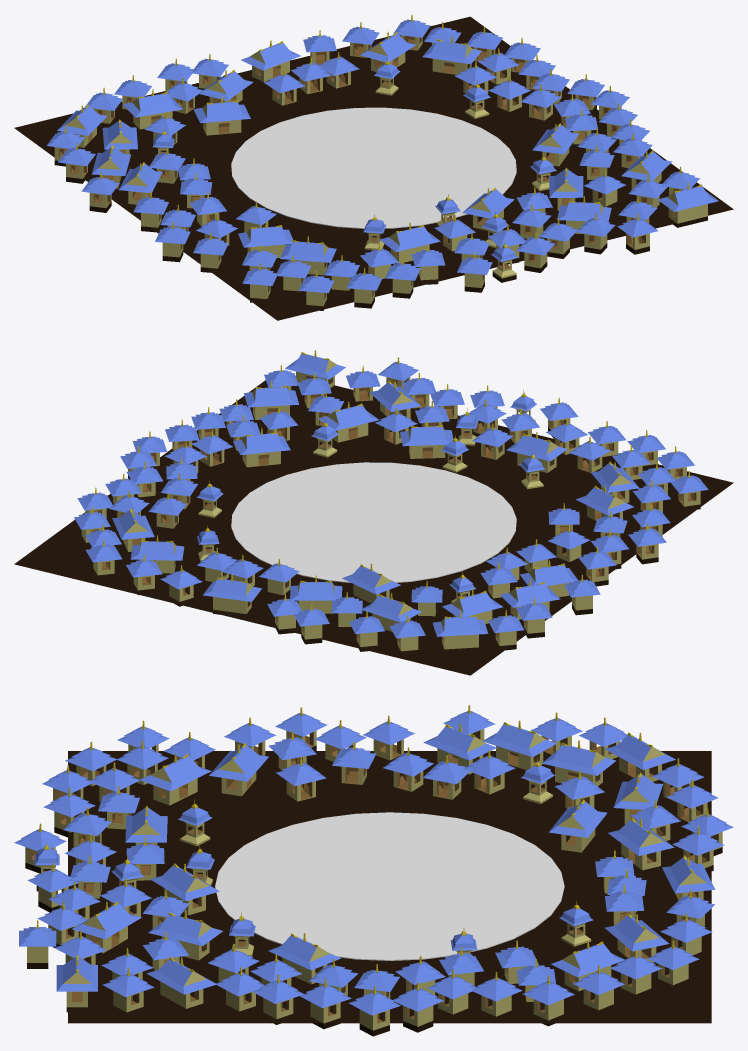
Rendered from Town.fbx.
3 views of the same model, one above another, from view 1: azimuth 30°, elevation 25°; view 2: azimuth 150°, elevation 25°; view 3: azimuth 270°, elevation 25° (orthographic). The views are drawn at different scales.
Parts seen in each view (by area): view 1: Plane, Circle, LargeHouse.002, LargeHouse.024, LargeHouse.031, LargeHouse.023, LargeHouse.025, LargeHouse.032, LargeHouse.030, LargeHouse.028, LargeHouse.020, LargeHouse.026 (+77 smaller); view 2: Plane, Circle, LargeHouse.023, LargeHouse.020, LargeHouse.036, LargeHouse.034, LargeHouse.022, LargeHouse.001, LargeHouse.021, LargeHouse.026, LargeHouse.024, LargeHouse.032 (+70 smaller); view 3: Plane, Circle, LargeHouse.029, LargeHouse.030, LargeHouse.021, LargeHouse.027, LargeHouse.001, LargeHouse.028, LargeHouse.022, LargeHouse.036, LargeHouse.024, LargeHouse.035 (+80 smaller).
Boxes of the visible parts, x1,y1,x2,y2 form: Plane: (14,16,733,320); Circle: (231,107,516,228); LargeHouse.002: (658,183,718,227); LargeHouse.024: (193,96,250,135); LargeHouse.031: (422,35,481,74); LargeHouse.023: (241,40,300,81); LargeHouse.025: (123,89,182,129); LargeHouse.032: (379,222,440,263); LargeHouse.030: (280,236,336,275); LargeHouse.028: (238,220,292,258); LargeHouse.020: (532,123,579,166); LargeHouse.026: (360,31,415,71); Plane: (14,376,733,675); Circle: (231,462,516,582); LargeHouse.023: (203,574,261,614); LargeHouse.020: (233,427,290,467); LargeHouse.036: (432,610,488,649); LargeHouse.034: (400,420,453,458); LargeHouse.022: (318,401,378,442); LargeHouse.001: (290,575,342,613); LargeHouse.021: (244,381,299,419); LargeHouse.026: (130,535,184,573); LargeHouse.024: (342,563,400,603); LargeHouse.032: (506,432,567,472); Plane: (68,751,711,1023); Circle: (215,812,564,960); LargeHouse.029: (483,720,556,769); LargeHouse.030: (140,753,211,805); LargeHouse.021: (146,956,216,1008); LargeHouse.027: (541,740,616,786); LargeHouse.001: (608,817,674,870); LargeHouse.028: (209,743,268,796); LargeHouse.022: (148,910,222,960); LargeHouse.036: (605,732,675,781); LargeHouse.024: (549,799,607,852); LargeHouse.035: (72,901,141,953).
Bounding box in the file's own units: 6685 × 501 × 6710.
